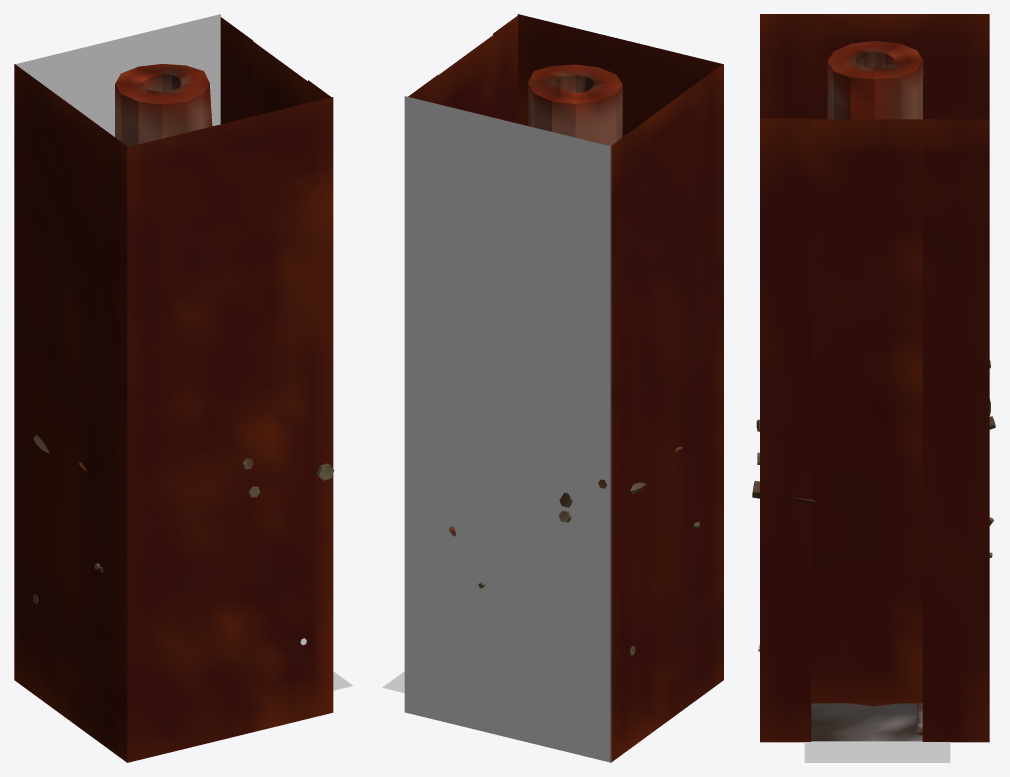
Rendered from Générateur(5).fbx.
The picture shows the model from 3 angles, left to right: view 1: azimuth 30°, elevation 25°; view 2: azimuth 150°, elevation 25°; view 3: azimuth 270°, elevation 25°; orthographic projection.
Parts seen in each view (by area): view 1: Plan 5, Plan 2, Plan 4, Cylindre, Plan 7, Plan 8, Tube; view 2: Plan 4, Plan 2, Plan 5, Cylindre, Plan 8, Plan 6, Tube; view 3: Plan 8, Plan 7, Plan 6, Plan 2, Cylindre, Plan 1, Plan, Tube.
Part boxes in pixels (x1=…): Plan 5: x1=127, y1=97, x2=333, y2=762; Plan 2: x1=14, y1=64, x2=127, y2=762; Plan 4: x1=15, y1=14, x2=220, y2=136; Cylindre: x1=115, y1=64, x2=212, y2=146; Plan 7: x1=220, y1=17, x2=252, y2=124; Plan 8: x1=251, y1=40, x2=309, y2=116; Tube: x1=33, y1=435, x2=334, y2=603; Plan 4: x1=404, y1=96, x2=611, y2=762; Plan 2: x1=610, y1=64, x2=723, y2=762; Plan 5: x1=517, y1=14, x2=723, y2=679; Cylindre: x1=528, y1=64, x2=622, y2=145; Plan 8: x1=437, y1=34, x2=494, y2=117; Plan 6: x1=493, y1=15, x2=517, y2=123; Tube: x1=449, y1=446, x2=699, y2=655; Plan 8: x1=811, y1=119, x2=922, y2=703; Plan 7: x1=922, y1=119, x2=989, y2=742; Plan 6: x1=760, y1=118, x2=811, y2=742; Plan 2: x1=760, y1=14, x2=989, y2=119; Cylindre: x1=827, y1=41, x2=923, y2=706; Plan 1: x1=811, y1=703, x2=922, y2=741; Plan: x1=804, y1=741, x2=950, y2=762; Tube: x1=752, y1=360, x2=995, y2=557.
Size of the model in its own units: 17.48 by 41.24 by 14.39.
